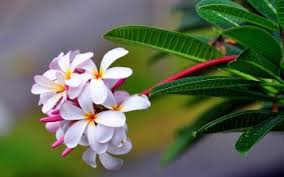frangipani: (61, 91, 125, 152)
